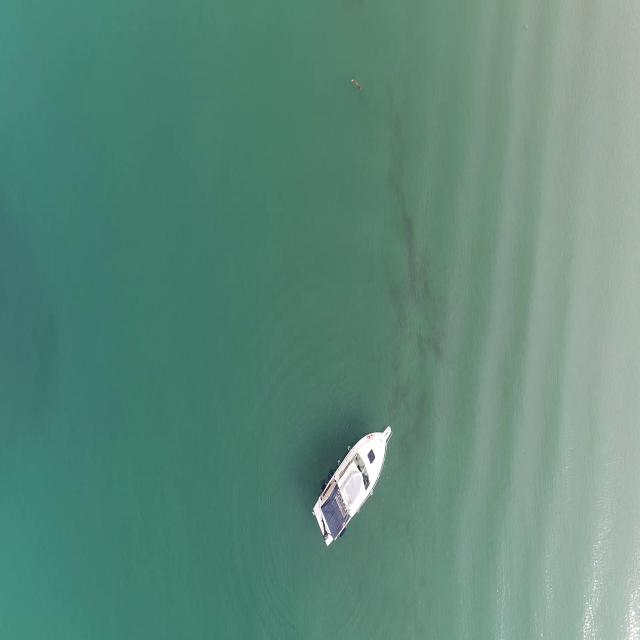boat: (314, 421, 391, 554)
wood: (350, 77, 362, 91)
